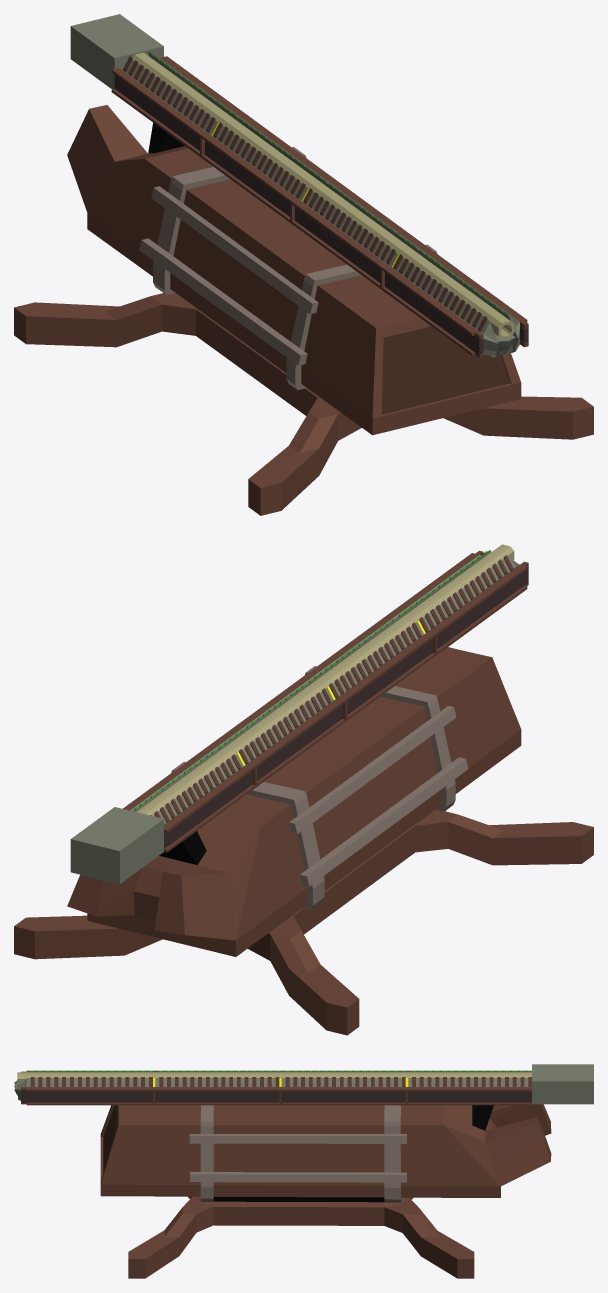
The model's file is launchBase.fbx.
3 views of the same model, one above another, from view 1: azimuth 30°, elevation 25°; view 2: azimuth 150°, elevation 25°; view 3: azimuth 270°, elevation 25° (orthographic). The views are drawn at different scales.
Visible parts, largest first — view 1: 立方体, Cube; view 2: 立方体, Cube; view 3: 立方体, Cube.
Part boxes in pixels (<box>): 立方体: <box>14,105,593,515</box>; Cube: <box>70,14,528,358</box>; 立方体: <box>14,647,593,1035</box>; Cube: <box>70,544,528,884</box>; 立方体: <box>100,1104,551,1278</box>; Cube: <box>14,1064,593,1105</box>.
Size of the model in its own units: 1355 by 824 by 2912.
Materials: 2 (2 with a texture image).
